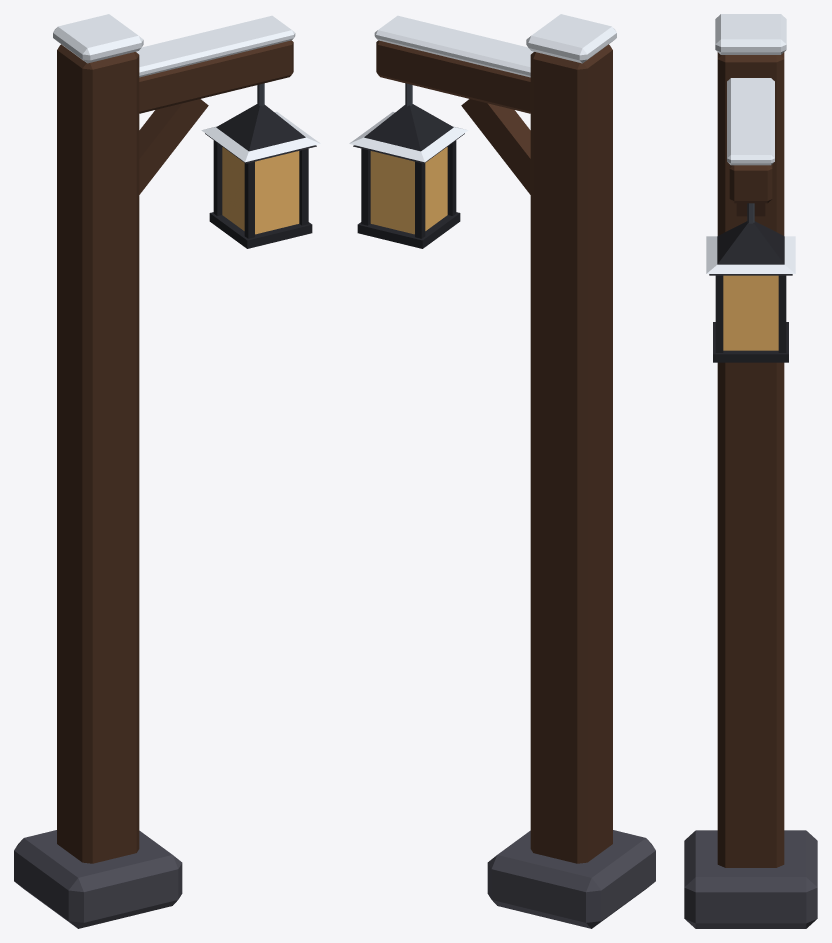
File: lamp_post.obj
3 renders of one model, left to right at view 1: azimuth 30°, elevation 25°; view 2: azimuth 150°, elevation 25°; view 3: azimuth 270°, elevation 25°, orthographic.
Visible parts, largest first — view 1: lamp_post_Main, lamp_post_Neon_window_glow; view 2: lamp_post_Main, lamp_post_Neon_window_glow; view 3: lamp_post_Main, lamp_post_Neon_window_glow.
Part boxes in pixels (bbox=[...]): lamp_post_Main: bbox=[14, 14, 320, 928]; lamp_post_Neon_window_glow: bbox=[222, 147, 299, 234]; lamp_post_Main: bbox=[349, 14, 655, 928]; lamp_post_Neon_window_glow: bbox=[370, 147, 447, 234]; lamp_post_Main: bbox=[684, 14, 817, 928]; lamp_post_Neon_window_glow: bbox=[723, 275, 778, 350].
Size of the model in its own units: 3.17 by 10.17 by 1.4.
Materials: 1 (1 with a texture image).
